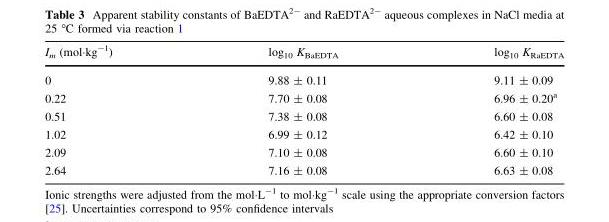table: (44, 44, 563, 176)
table column: (189, 44, 415, 176), (415, 44, 563, 176), (44, 44, 189, 176)
table column header: (44, 44, 563, 70)
table row: (44, 44, 563, 70), (44, 88, 563, 107), (44, 70, 563, 88), (44, 107, 563, 125), (44, 125, 563, 143), (44, 143, 563, 161), (44, 161, 563, 176)
